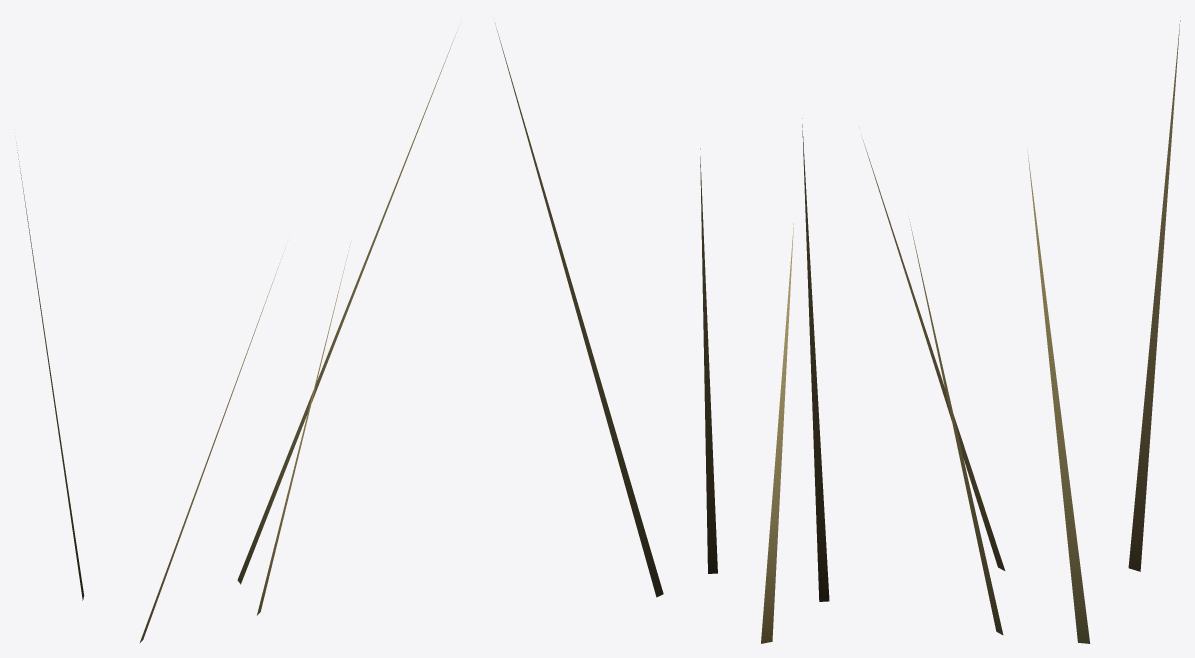
Rendered from grass-dry-b.lod2.glb.
3 views of the same model, side by side, from view 1: azimuth 30°, elevation 25°; view 2: azimuth 150°, elevation 25°; view 3: azimuth 270°, elevation 25° (orthographic). The views are drawn at different scales.
Size of the model in its own units: 0.8281 by 1.11 by 0.5368.
